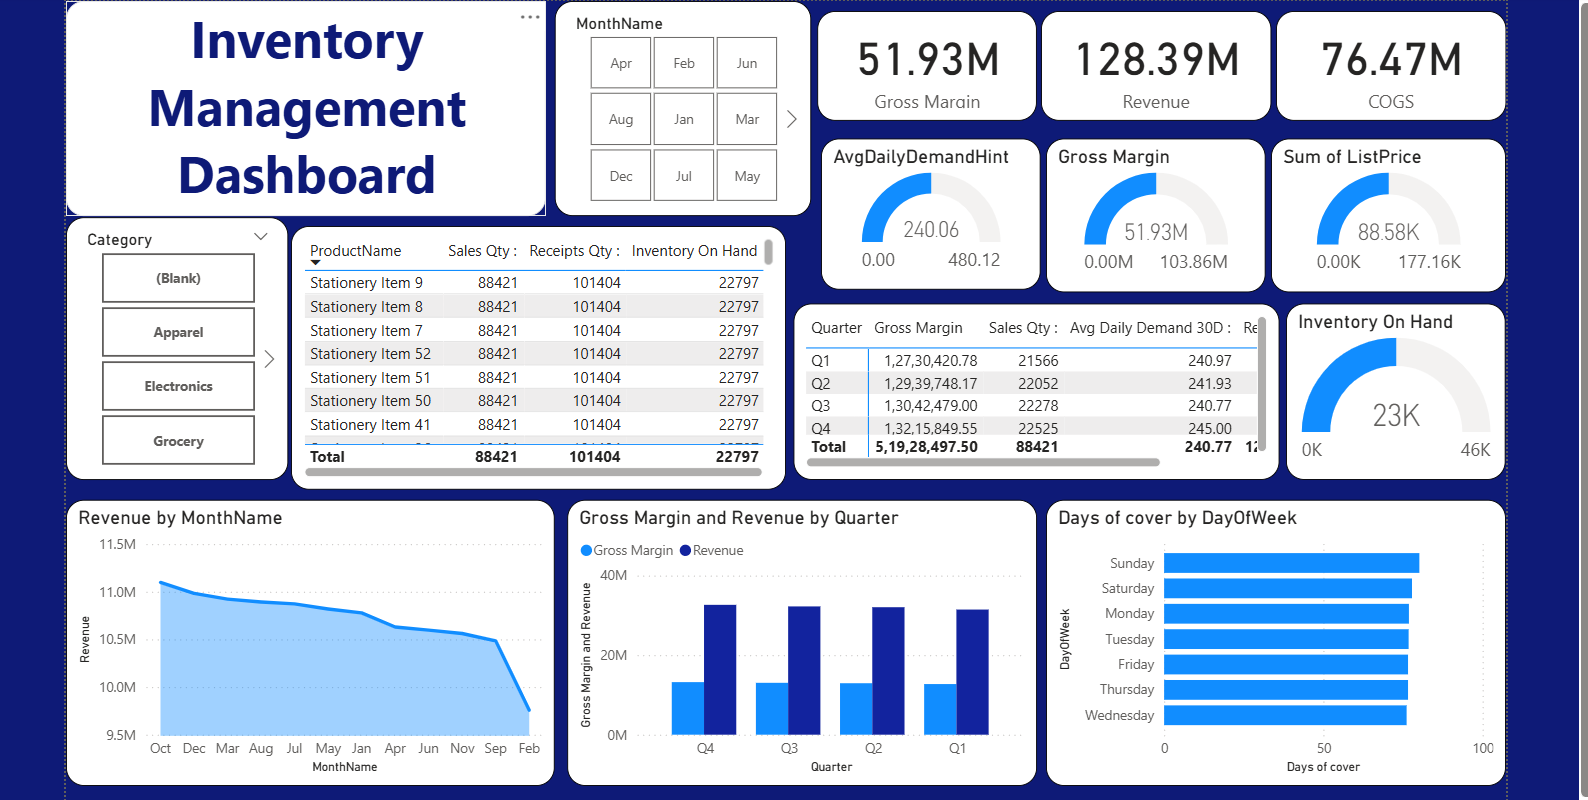

This screenshot's page, from the dashboard's own definition file:
{"tool":"powerbi","page":{"name":"Page 1","canvas":[1280,720],"ordinal":0},"visuals":[{"type":"gauge","fields":{"Y":["Calendar.Inventory On Hand"]},"box":[1084.4,268.9,195.6,156.7],"z":0},{"type":"gauge","fields":{"Y":["Calendar.Gross Margin"]},"box":[871.1,122.2,195.6,136.7],"z":1000},{"type":"gauge","fields":{"Y":["Sum(Products.AvgDailyDemandHint)"]},"box":[671.1,122.2,195.6,134.4],"z":2000},{"type":"gauge","fields":{"Y":["Sum(Products.ListPrice)"]},"box":[1071.1,122.2,208.9,136.7],"z":3000},{"type":"card","fields":{"Values":["Calendar.COGS"]},"box":[1075.6,8.9,204.4,97.8],"z":4000},{"type":"card","fields":{"Values":["Calendar.Gross Margin"]},"box":[667.8,8.9,195.6,97.8],"z":5000},{"type":"card","fields":{"Values":["Calendar.Revenue"]},"box":[866.7,8.9,204.4,97.8],"z":6000},{"type":"areaChart","fields":{"Y":["Calendar.Revenue"],"Category":["Calendar.MonthName"]},"box":[0,443.3,434.4,254.4],"z":7000},{"type":"clusteredColumnChart","fields":{"Category":["Calendar.Quarter"],"Y":["Calendar.Gross Margin","Calendar.Revenue"]},"box":[445.6,443.3,417.8,254.4],"z":8000},{"type":"clusteredBarChart","fields":{"Category":["Calendar.DayOfWeek"],"Y":["Sum(Calendar.Day)"]},"box":[871.1,443.3,408.9,254.4],"z":9000},{"type":"tableEx","fields":{"Values":["Products.ProductName","Calendar.Sales Qty :","Calendar.Receipts Qty :","Calendar.Inventory On Hand"]},"box":[200,200,440,234.4],"z":10000},{"type":"slicer","fields":{"Values":["Calendar.MonthName"]},"box":[434.4,0,227.8,191.1],"z":11000},{"type":"pivotTable","fields":{"Rows":["Calendar.Quarter"],"Values":["Calendar.Gross Margin","Calendar.Sales Qty :","Calendar.Avg Daily Demand 30D :","Calendar.Revenue"]},"box":[646.7,268.9,432.2,156.7],"z":12000},{"type":"slicer","fields":{"Values":["Products.Category"]},"box":[0,192.2,197.8,233.3],"z":12001},{"type":"textbox","title":"Inventory Management Dashboard","box":[0,0,426.7,191.1],"z":12002}]}

Visuals, with their boxes in screenshot pixels (x1, y1, x2, y2):
gauge - Calendar.Inventory On Hand: <region>1287, 296, 1509, 474</region>
gauge - Calendar.Gross Margin: <region>1045, 130, 1267, 285</region>
gauge - Sum(Products.AvgDailyDemandHint): <region>819, 130, 1040, 283</region>
gauge - Sum(Products.ListPrice): <region>1272, 130, 1509, 285</region>
card - Calendar.COGS: <region>1277, 2, 1509, 113</region>
card - Calendar.Gross Margin: <region>815, 2, 1036, 113</region>
card - Calendar.Revenue: <region>1040, 2, 1272, 113</region>
areaChart - Calendar.Revenue x Calendar.MonthName: <region>58, 494, 550, 782</region>
clusteredColumnChart - Calendar.Quarter x Calendar.Gross Margin: <region>563, 494, 1036, 782</region>
clusteredBarChart - Calendar.DayOfWeek x Sum(Calendar.Day): <region>1045, 494, 1509, 782</region>
tableEx - Products.ProductName x Calendar.Sales Qty :: <region>285, 218, 783, 484</region>
slicer - Calendar.MonthName: <region>550, 0, 808, 208</region>
pivotTable - Calendar.Quarter x Calendar.Gross Margin: <region>791, 296, 1281, 474</region>
slicer - Products.Category: <region>58, 210, 282, 474</region>
"Inventory Management Dashboard" textbox: <region>58, 0, 542, 208</region>
